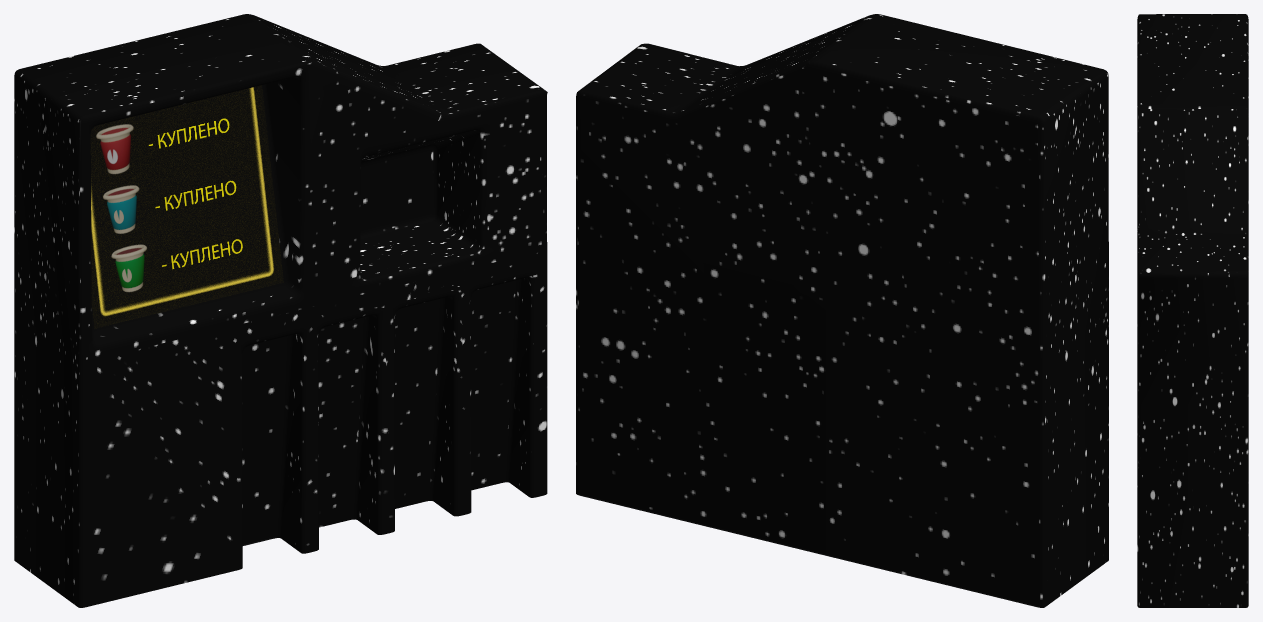
File: Coffe Machine.fbx
3 views of the same model, side by side, from view 1: azimuth 30°, elevation 25°; view 2: azimuth 150°, elevation 25°; view 3: azimuth 270°, elevation 25° (orthographic). The views are drawn at different scales.
Visible parts, largest first — view 1: Coffe Machine; view 2: Coffe Machine; view 3: Coffe Machine.
Boxes of the visible parts, x1=… form: Coffe Machine: x1=14, y1=14, x2=547, y2=607; Coffe Machine: x1=576, y1=14, x2=1108, y2=607; Coffe Machine: x1=1137, y1=14, x2=1248, y2=607.
Size of the model in its own units: 1.6 by 1.6 by 0.3972.
Materials: 2 (2 with a texture image).
